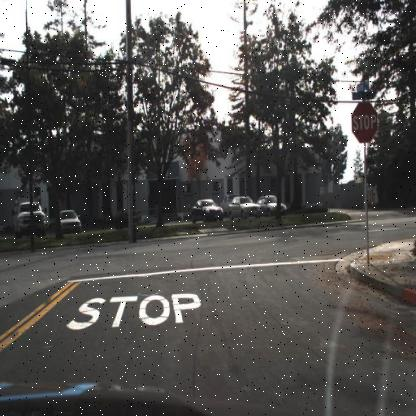car: (12, 197, 45, 237), (190, 198, 223, 223), (227, 195, 260, 220), (58, 207, 83, 234), (261, 192, 287, 214)
